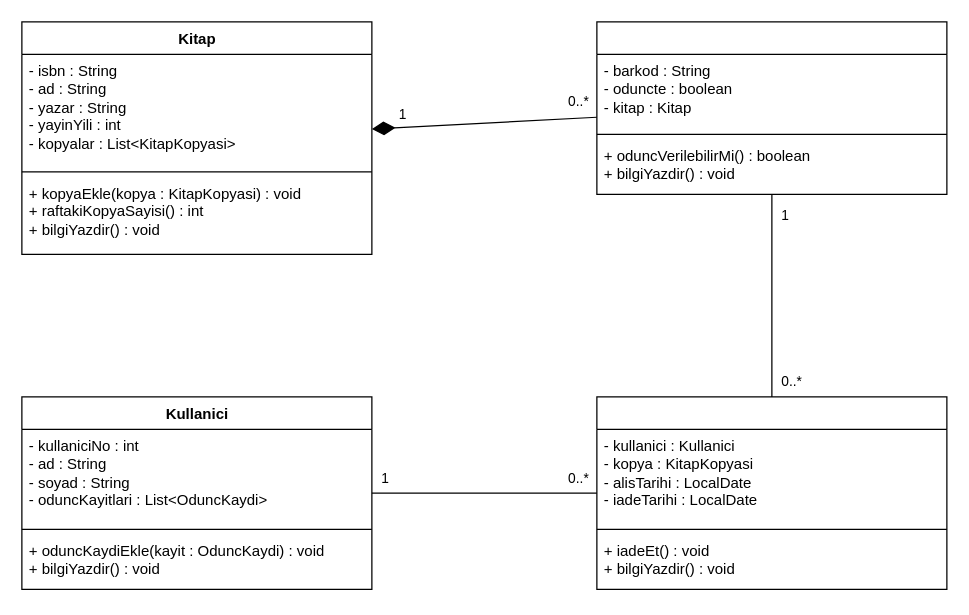
The diagram is 969 pixels wide and 615 high, and some of its shapes have lost their labels. The box of each missing label's shape, as (x1, y1, x2, y2) in pixels:
KitapKopyasi: (596, 21, 947, 194)
OduncKaydi: (596, 396, 947, 589)
